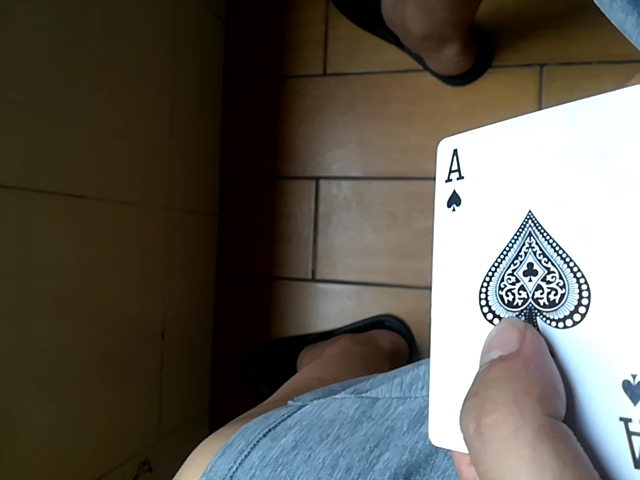ht a: (423, 59, 636, 472)
